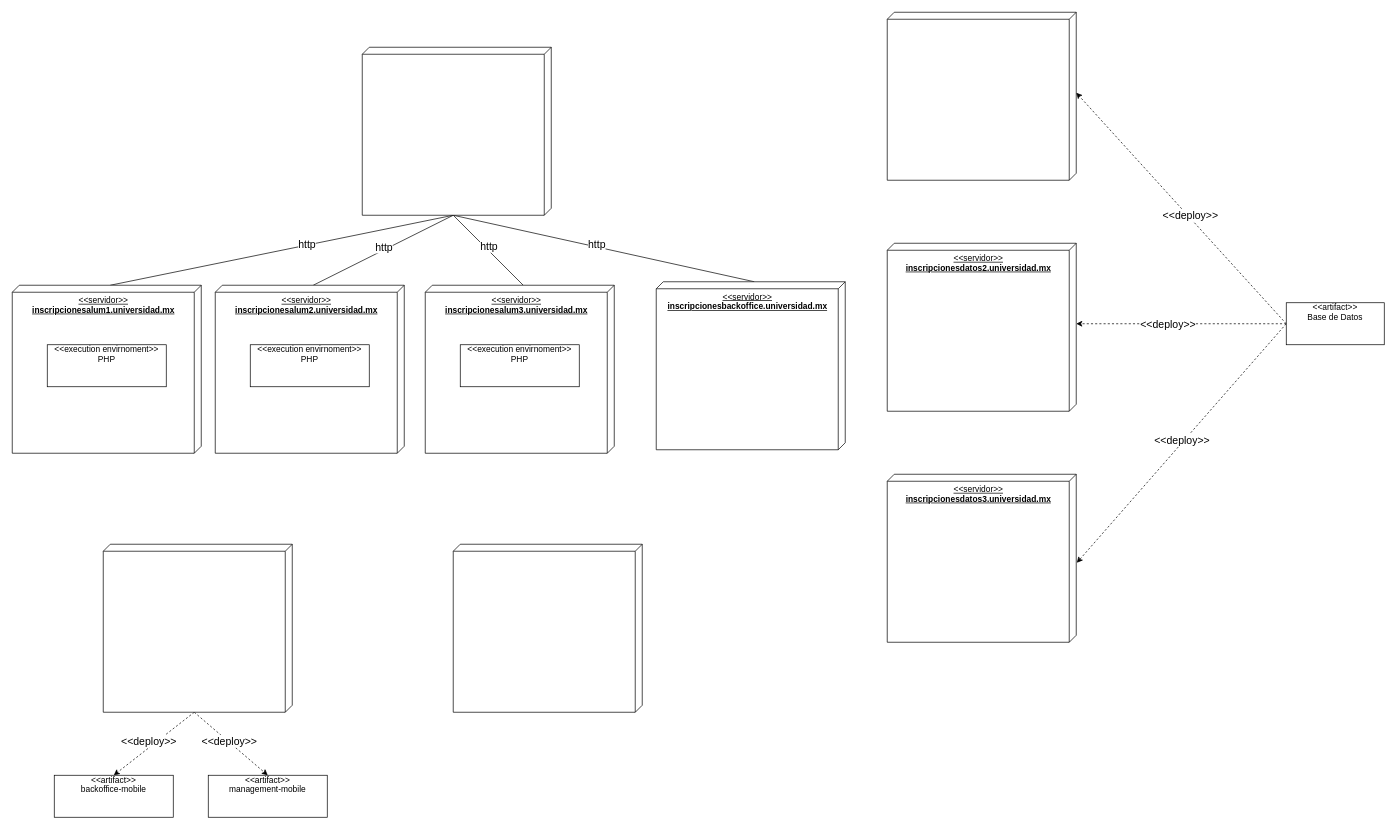
Image size: 1397x830. Some labels were removed from this diagram. The centre of each missing label's shape, as x and y in pixels:
"<<proxy>> aplicacionesalumnos.universidad.mx" goes at point 547,628.
"<<proxy>> aplicacionesempleados.universidad.mx" goes at point 197,628.
"<<proxy>> inscripciones.universidad.mx" goes at point 456,131.
"<<servidor>> inscripcionesdatos1.universidad.mx" goes at point 981,96.
